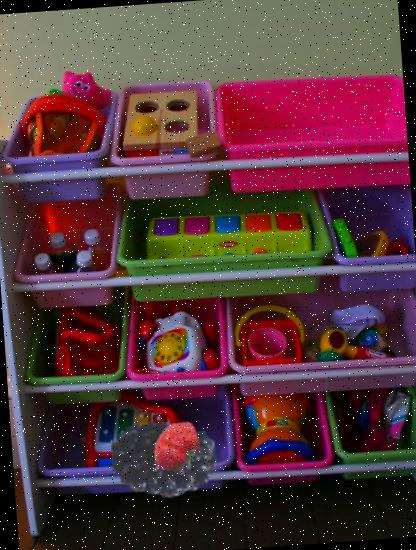Mulberry: (108, 402, 224, 517)
Strawberry: (149, 417, 207, 476)
